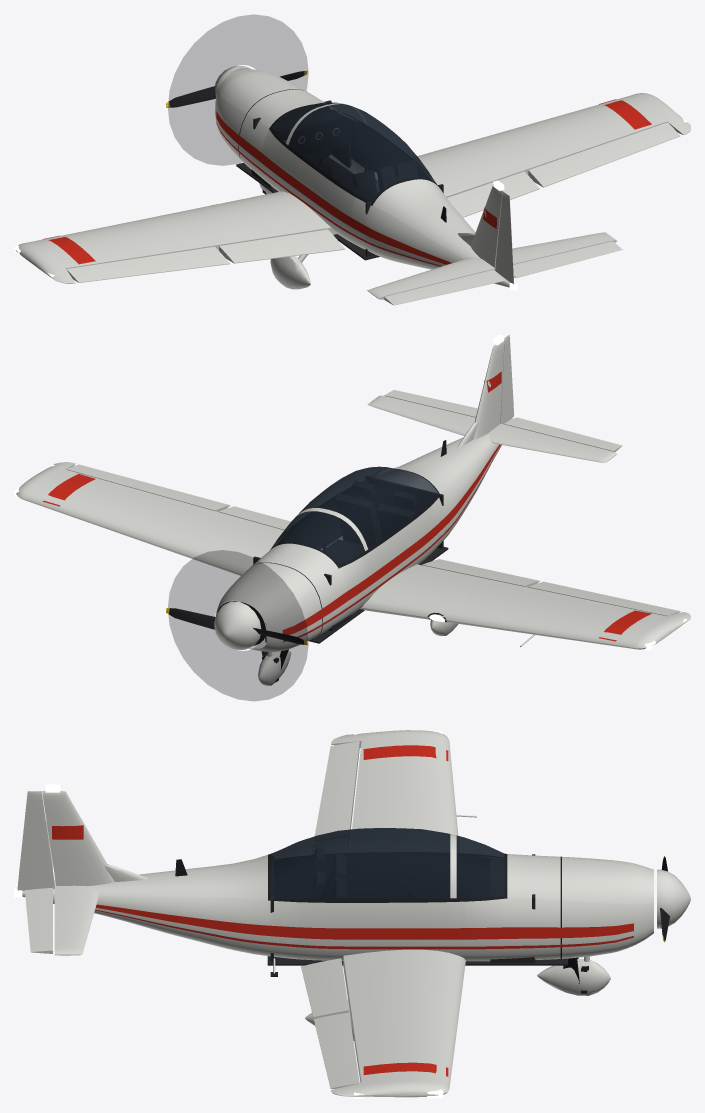
Rendered from plane_body.glb.
3 views of the same model, one above another, from view 1: azimuth 30°, elevation 25°; view 2: azimuth 150°, elevation 25°; view 3: azimuth 270°, elevation 25° (orthographic). The views are drawn at different scales.
Parts seen in each view (by area): view 1: PlaneBody, WingL, WingR, PropDisc, Stripes, AileronR, Elevator, AileronL, FlapL, FlapR, Rudder, Propeller; view 2: PlaneBody, PropDisc, WingL, WingR, Stripes, Propeller, Elevator, AileronR, AileronL, FlapL, Rudder, FlapR; view 3: PlaneBody, WingR, Stripes, WingL, AileronL, Rudder, AileronR, FlapR, Elevator, Propeller.
Boxes of the visible parts, x1,y1,x2,y2 form: PlaneBody: [215, 69, 616, 299]; WingL: [14, 191, 336, 283]; WingR: [360, 92, 690, 197]; PropDisc: [168, 14, 308, 165]; Stripes: [43, 99, 651, 266]; AileronR: [528, 122, 680, 187]; Elevator: [384, 241, 622, 305]; AileronL: [66, 246, 229, 282]; FlapL: [219, 229, 345, 263]; FlapR: [447, 171, 539, 217]; Rudder: [495, 192, 514, 283]; Propeller: [166, 66, 307, 107]; PlaneBody: [216, 334, 617, 685]; PropDisc: [168, 550, 308, 700]; WingL: [360, 564, 690, 650]; WingR: [14, 462, 330, 575]; Stripes: [43, 371, 651, 642]; Propeller: [166, 601, 307, 649]; Elevator: [384, 390, 622, 452]; AileronR: [66, 464, 230, 511]; AileronL: [528, 581, 680, 616]; FlapL: [422, 559, 539, 587]; Rudder: [500, 334, 514, 424]; FlapR: [219, 506, 290, 530]; PlaneBody: [14, 784, 653, 1040]; WingR: [331, 949, 465, 1098]; Stripes: [52, 745, 633, 1076]; WingL: [331, 730, 476, 835]; AileronL: [314, 741, 359, 836]; Rudder: [17, 791, 54, 890]; AileronR: [313, 1012, 359, 1088]; FlapR: [301, 958, 348, 1017]; Elevator: [25, 821, 52, 953]; Propeller: [657, 856, 690, 942].
Bounding box in the file's own units: 8.12 × 2.19 × 6.42.
